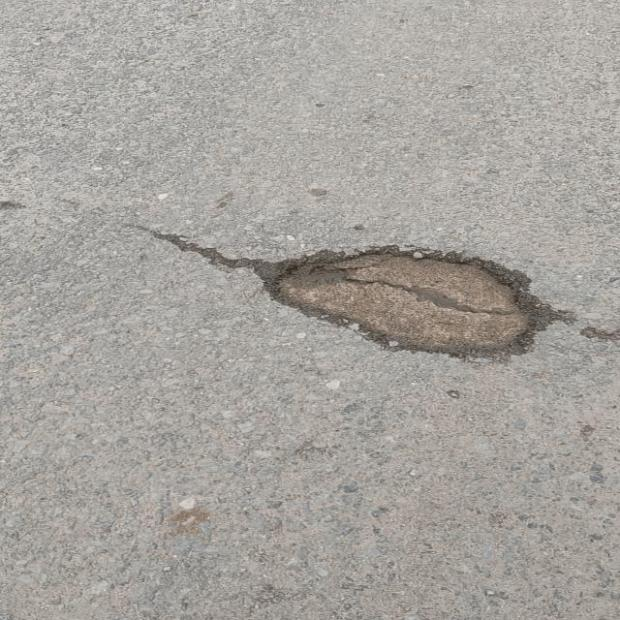lubang: (249, 249, 570, 356)
